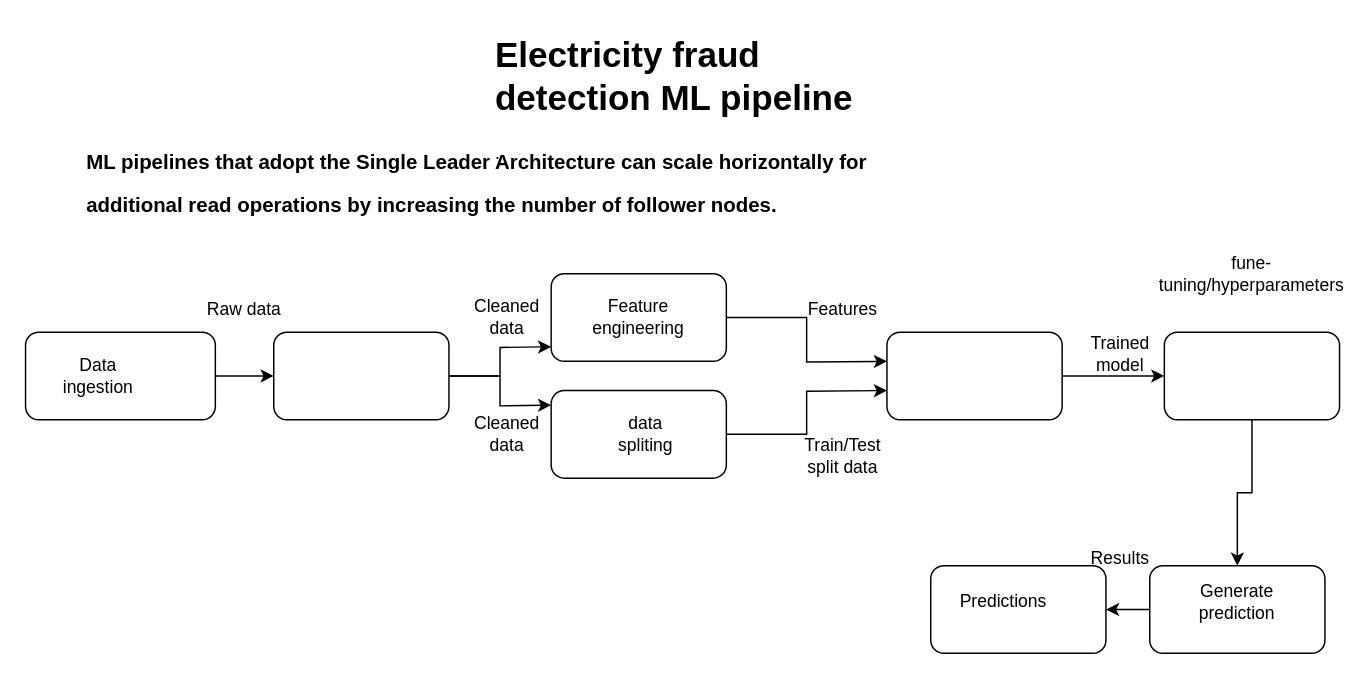
The diagram is 1369 pixels wide and 679 high, and some of its shapes have lost their labels. The shapes that lost their labels are listed below. From the top down, each one's centre as x and y in pixels, then its label:
the point at 360,375: Data Preprocessing
the point at 973,375: Model training
the point at 1251,375: Model validation
